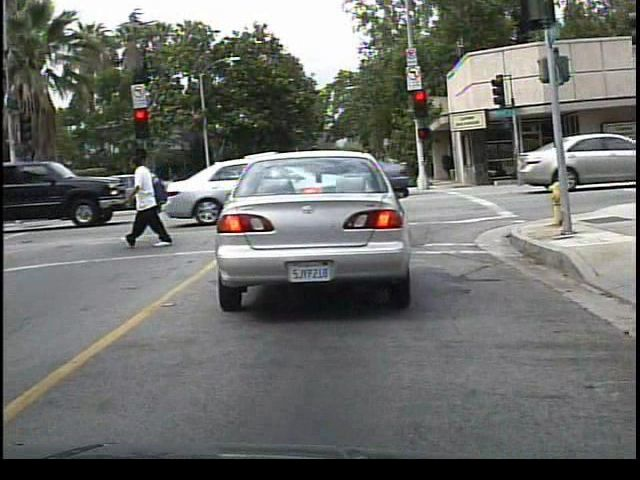person: (124, 150, 179, 251)
